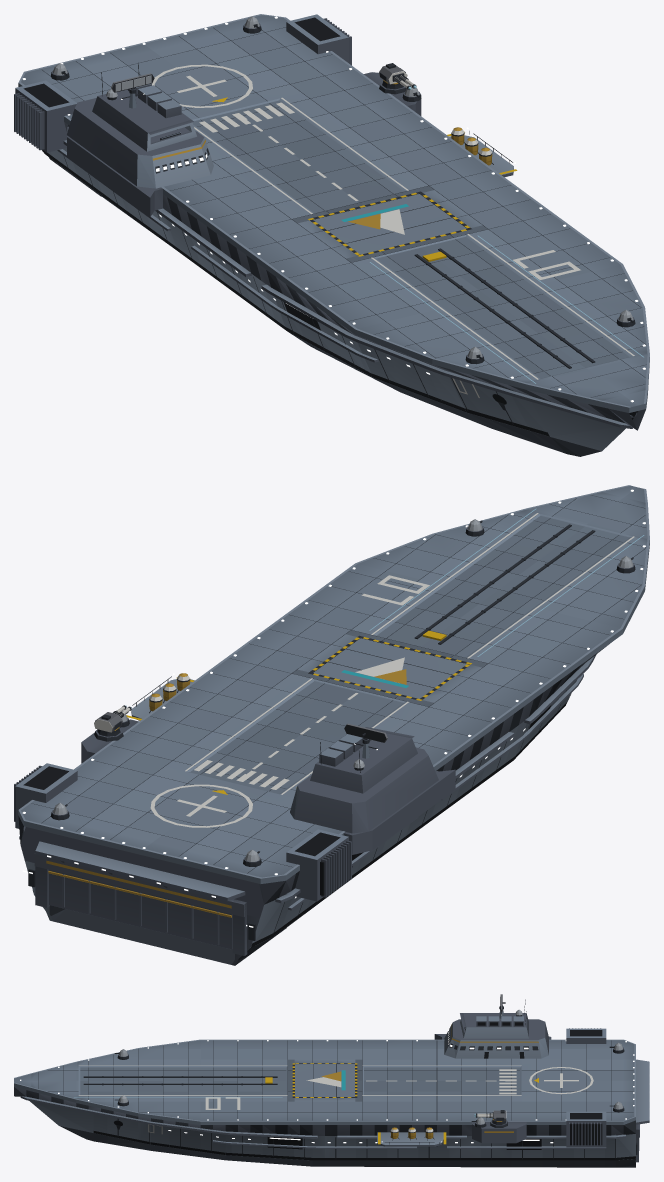
The model's file is stoorworm.glb.
3 views of the same model, one above another, from view 1: azimuth 30°, elevation 25°; view 2: azimuth 150°, elevation 25°; view 3: azimuth 270°, elevation 25° (orthographic). The views are drawn at different scales.
Visible parts, largest first — view 1: body, decals, lift_mesh, decals_lift, lights; view 2: body, decals, sternDoor_mesh, lift_mesh, decals_lift; view 3: body, decals, lift_mesh, decals_lift, lights.
Part boxes in pixels (left/top/right/bottom): body: left=14, top=14, right=649, bottom=456; decals: left=18, top=14, right=649, bottom=436; lift_mesh: left=313, top=194, right=466, bottom=254; decals_lift: left=327, top=204, right=452, bottom=243; lights: left=22, top=16, right=645, bottom=402; body: left=14, top=485, right=649, bottom=965; decals: left=18, top=485, right=649, bottom=947; sternDoor_mesh: left=48, top=870, right=232, bottom=949; lift_mesh: left=313, top=638, right=466, bottom=698; decals_lift: left=328, top=648, right=452, bottom=687; body: left=14, top=999, right=649, bottom=1167; decals: left=14, top=1022, right=635, bottom=1160; lift_mesh: left=295, top=1064, right=354, bottom=1096; decals_lift: left=306, top=1064, right=345, bottom=1096; lights: left=20, top=1014, right=649, bottom=1143.
Bounding box in the file's own units: 95.5 × 45.9 × 256.
